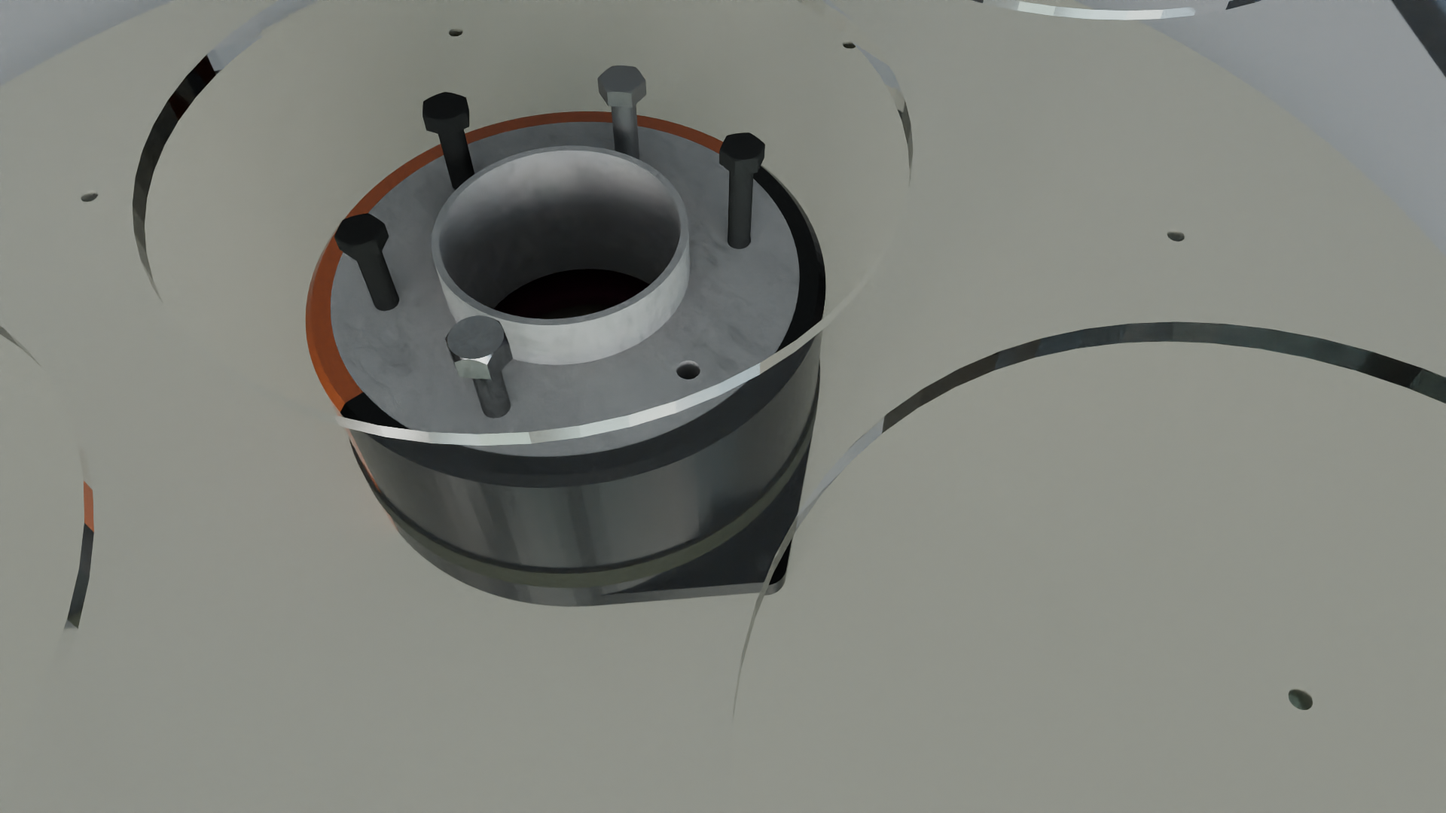bolt: (445, 315, 509, 364), (334, 213, 385, 248), (719, 132, 765, 163), (597, 65, 645, 93), (423, 92, 466, 123)
